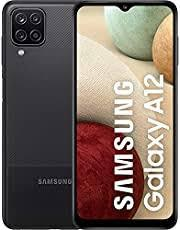Smartphone: (75, 5, 171, 229), (6, 2, 74, 228)
